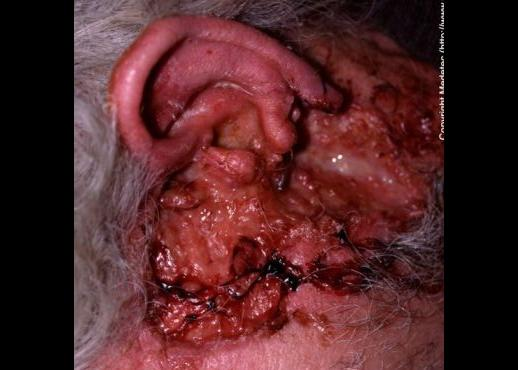NonPU: (126, 46, 444, 362)
